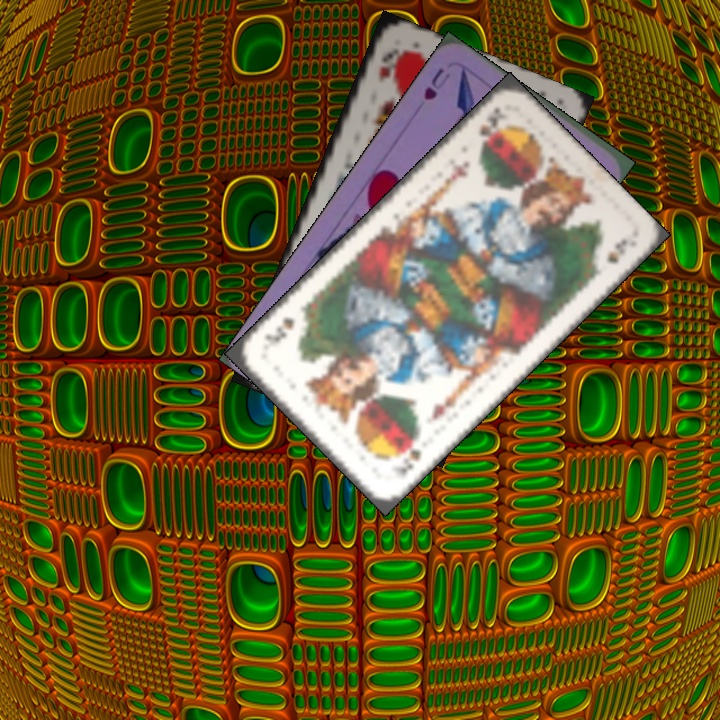HK: (374, 45, 403, 85)
HU: (419, 63, 453, 103)
SK: (389, 432, 425, 478), (474, 102, 509, 149)
